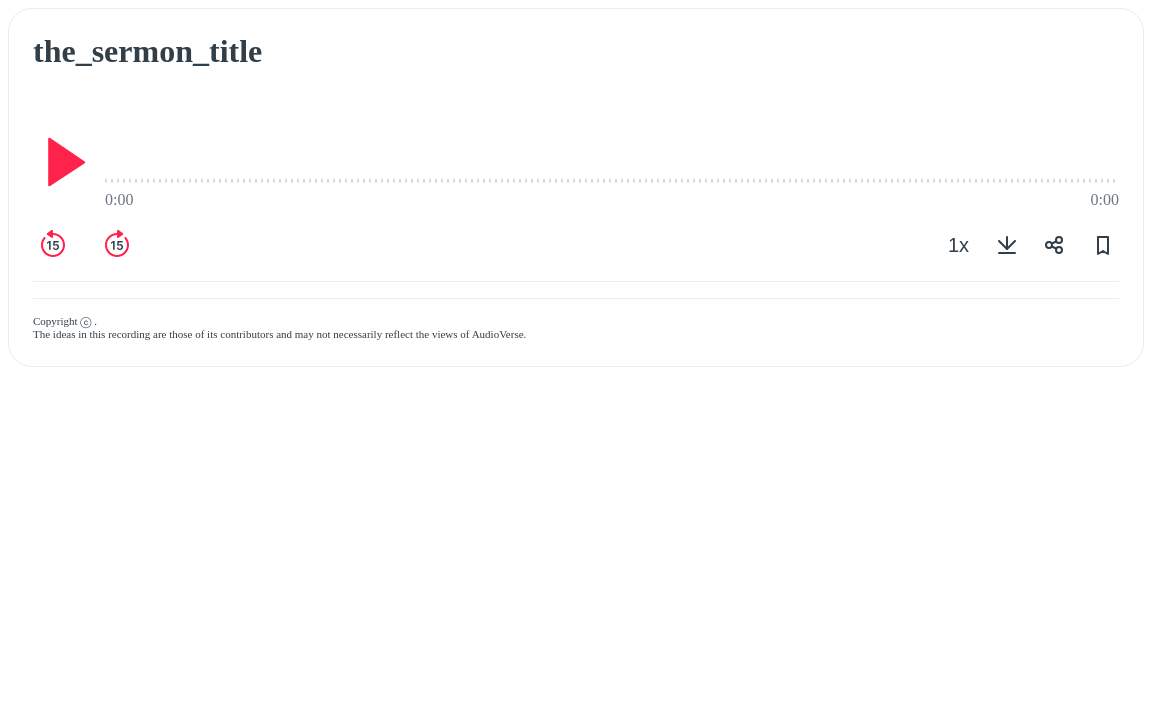
sermon detail page › includes share url title
Click the button named "share".
click(1055, 245)  # box [1039, 229, 1071, 261]
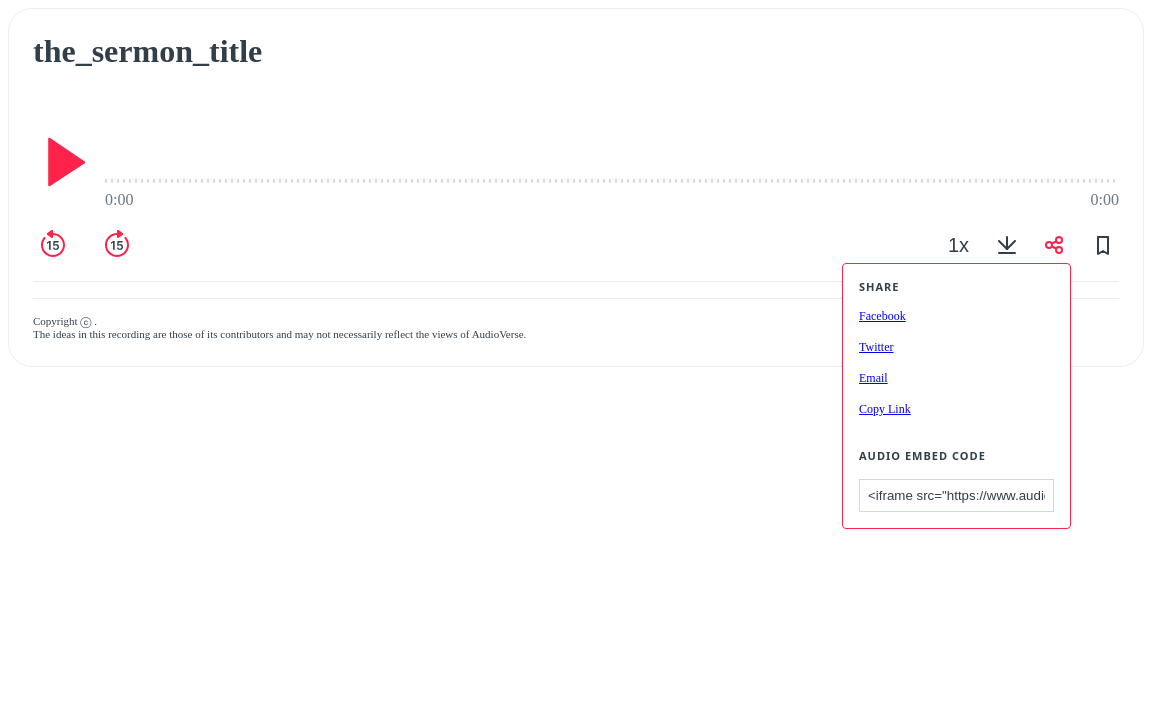
Now the link "Copy Link" is shown, box [859, 402, 911, 416]
